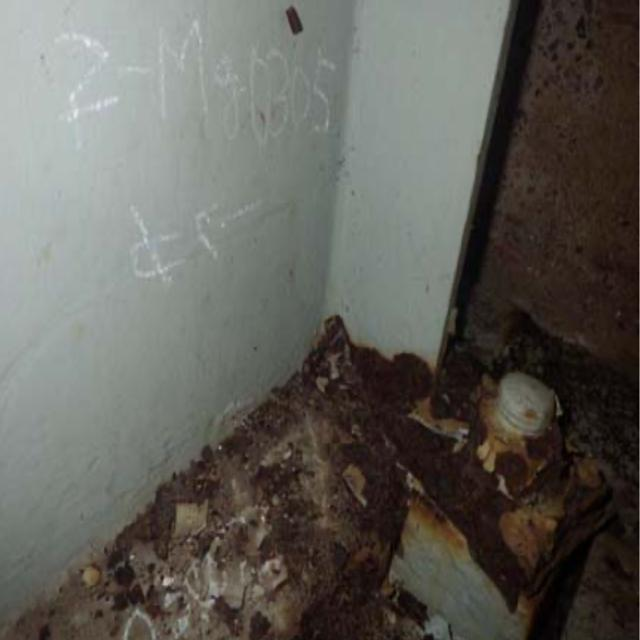corrosion: (74, 323, 607, 623)
